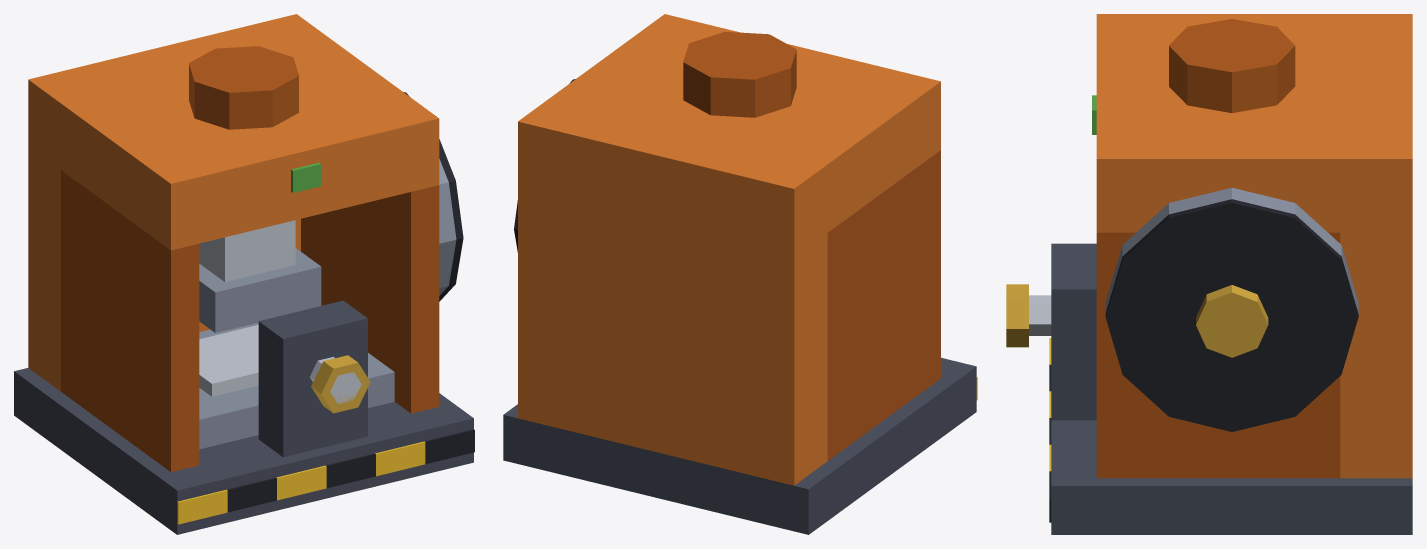
File: press.glb
3 views of the same model, side by side, from view 1: azimuth 30°, elevation 25°; view 2: azimuth 150°, elevation 25°; view 3: azimuth 270°, elevation 25° (orthographic). The views are drawn at different scales.
Parts seen in each view (by area): view 1: press, slide-up, spin-x; view 2: press; view 3: press, spin-x.
Boxes of the visible parts, box(x1,y1,x2,y2) form: press: box(14, 14, 474, 534); slide-up: box(199, 220, 321, 332); spin-x: box(403, 92, 463, 301); press: box(503, 14, 977, 534); press: box(1006, 14, 1412, 534); spin-x: box(1105, 187, 1358, 431).
Bounding box in the file's own units: 0.92 × 1 × 0.9.
Materials: 3 (3 with a texture image).
